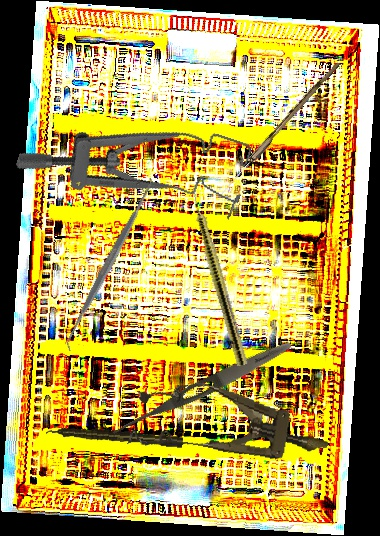Dressing Forceps: (109, 336, 295, 442)
Handpiece: (184, 181, 251, 367), (45, 424, 184, 449)
Spatula Surgical: (54, 174, 164, 354)
Speculum: (14, 77, 257, 239), (127, 371, 335, 482)
Surgical Spoon: (217, 59, 341, 199)
